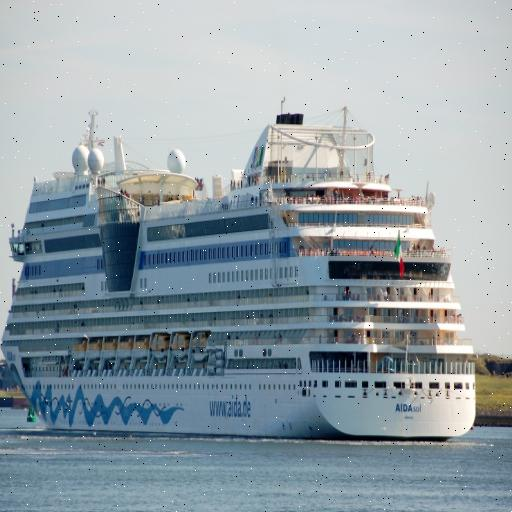cruises: (1, 106, 482, 448)
